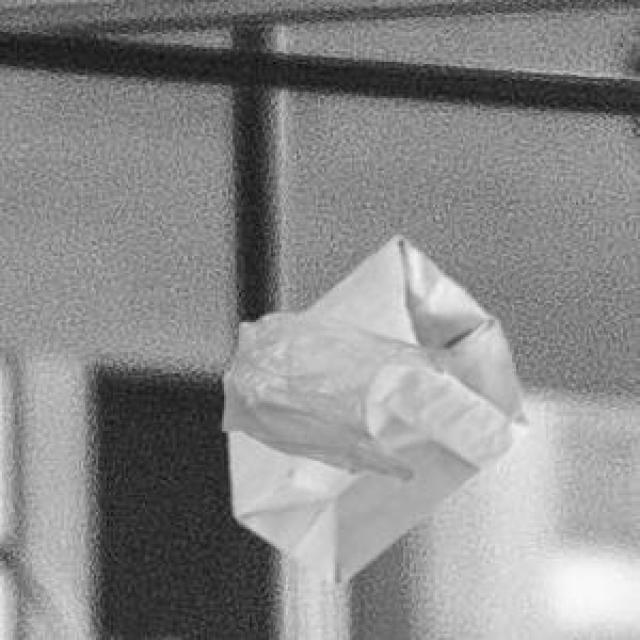paper: (224, 233, 525, 580)
